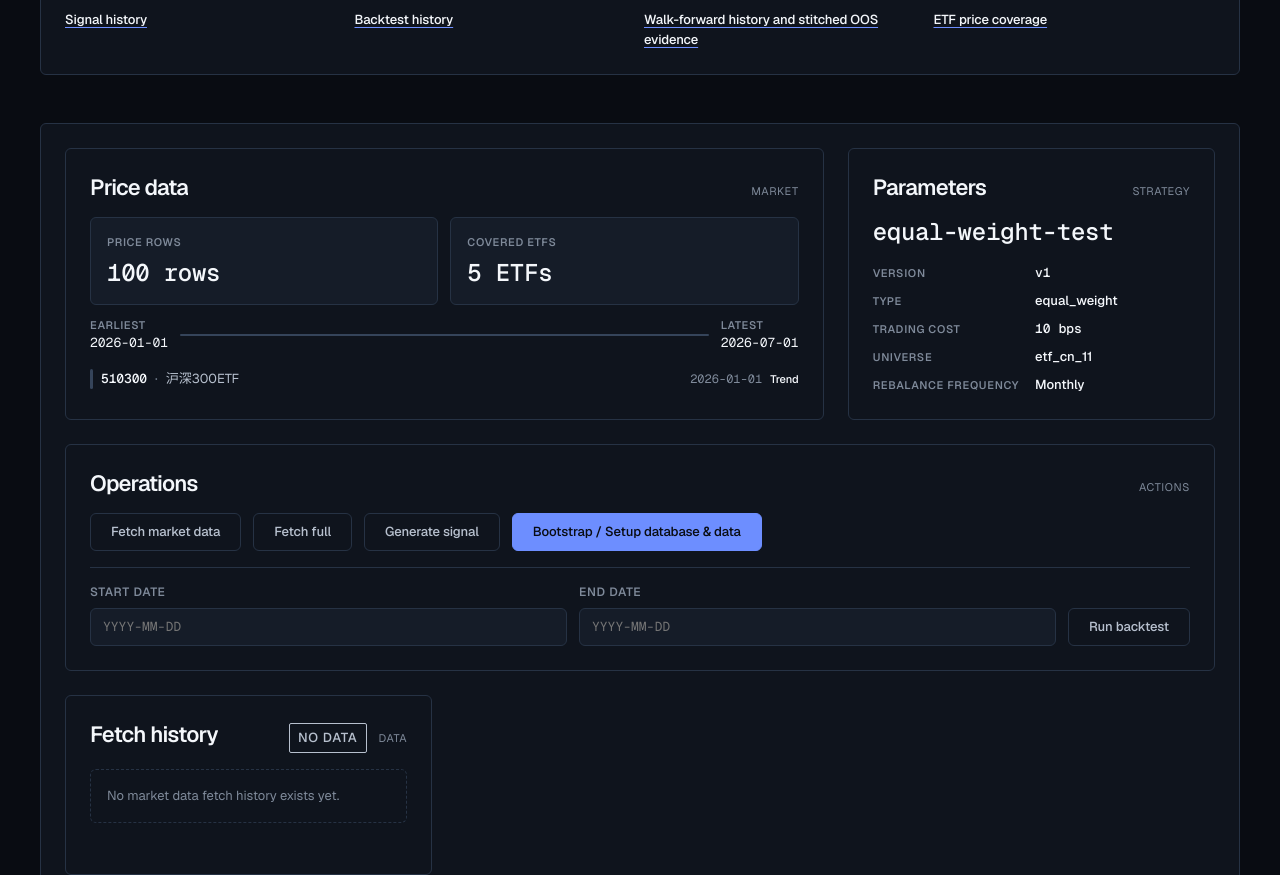
Test case: DashboardPage market data fetch actions › reloads aggregate dashboard data after a successful full fetch
(page scrolled)
Check: the text "100 rows" is shown, box [107, 257, 220, 288]
Click the button "Fetch full". click: (303, 532)
box: [253, 513, 352, 551]
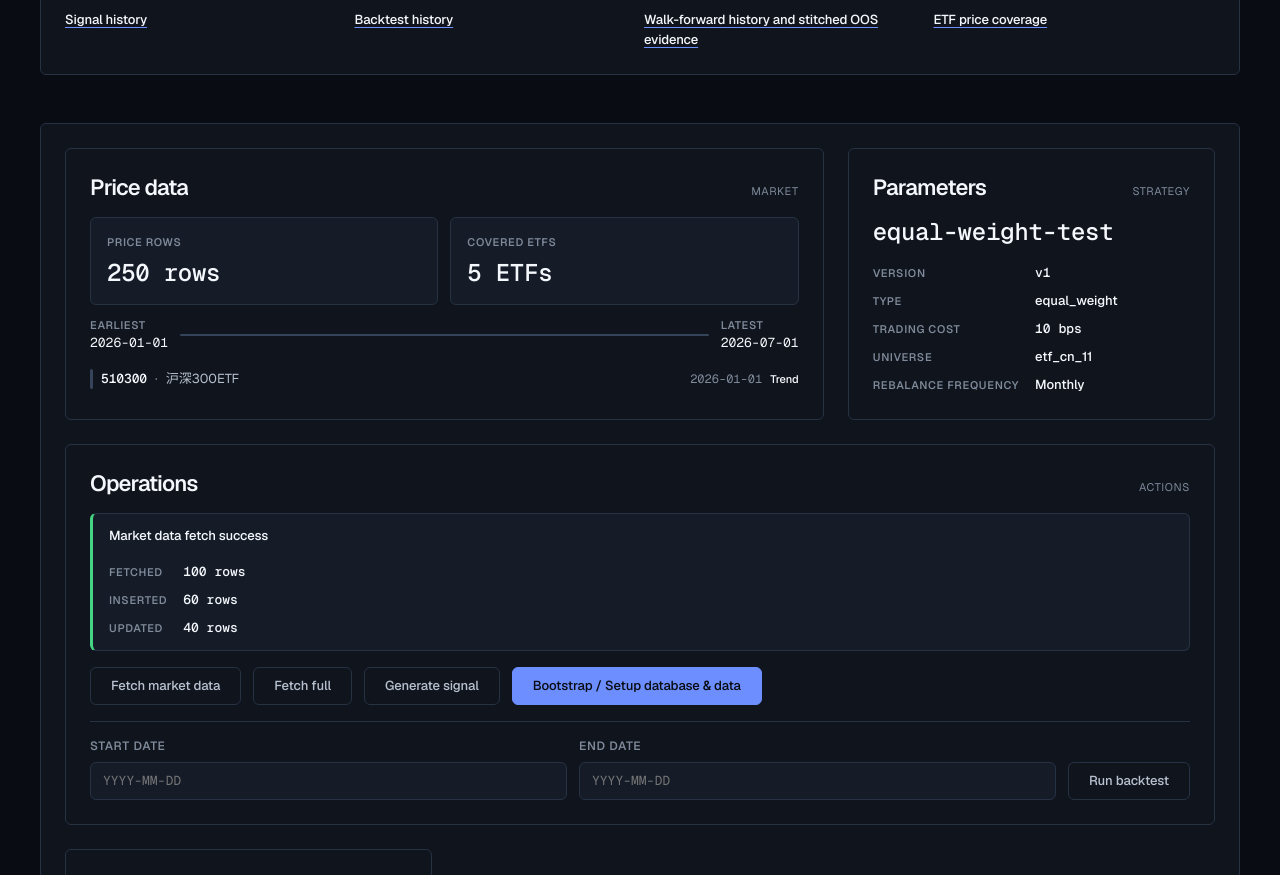
Check: the text "250 rows" is shown, box [107, 257, 220, 288]
